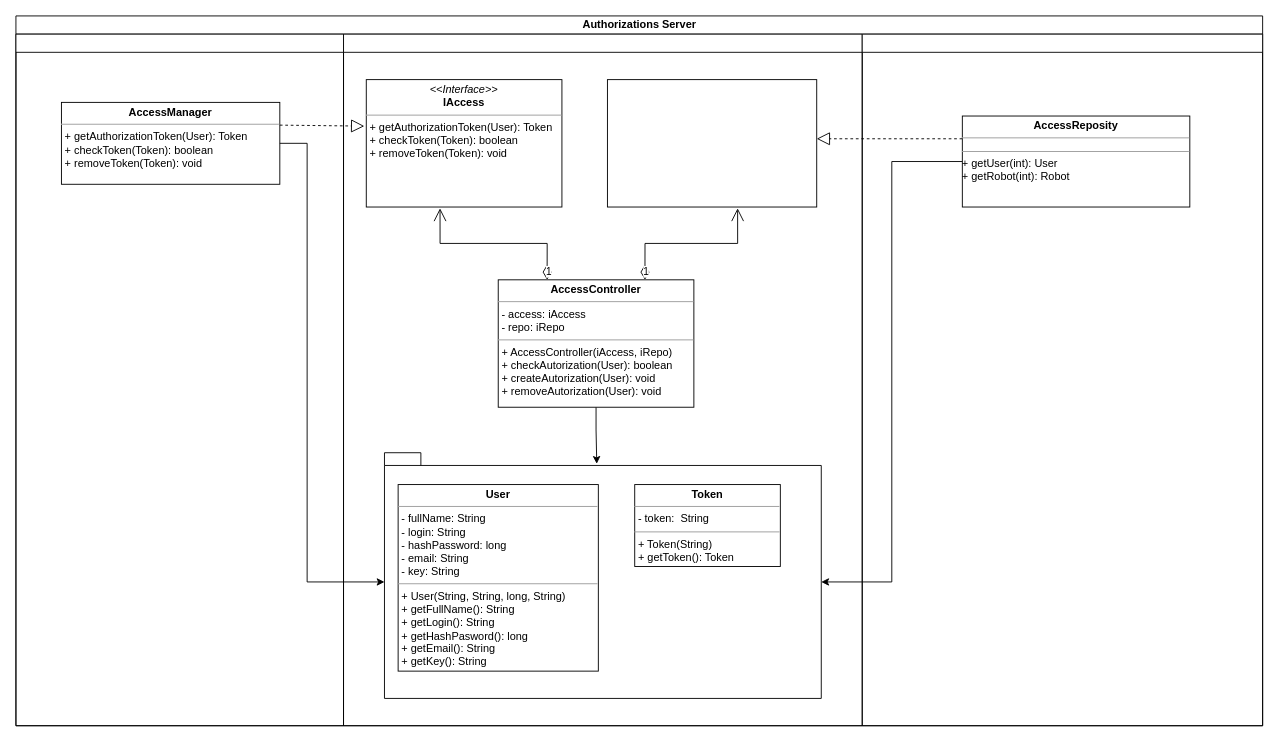
The diagram is 1279 pixels wide and 742 high, and some of its shapes have lost their labels. The shapes that lost their labels are listed below. From the top down, each one's box as (x1, y1, x2, y2) in pixels, then its label:
(607, 79, 817, 207): <<Interface>> IRepo + getUser(int): User + getRobot(int): Robot
(15, 33, 344, 726): Adapters
(343, 33, 862, 726): Logics
(861, 33, 1263, 726): Data
